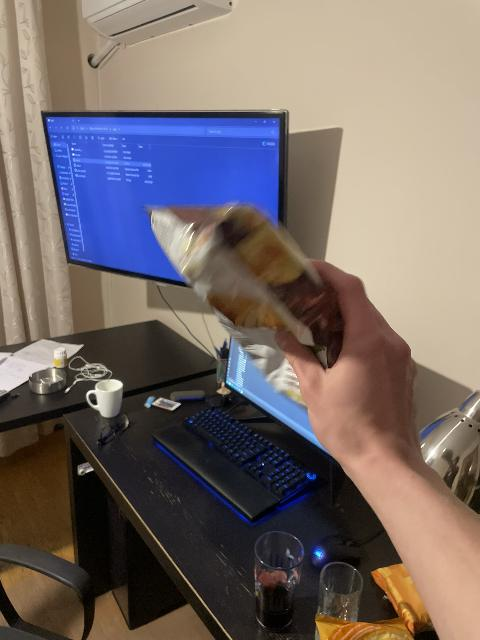Chio Cascaval 125g: (319, 616, 405, 640)
Chio Hula Hoops Cheese 70g: (372, 562, 436, 634)
Lays Beef Grilled Ribs 125g: (138, 203, 352, 413)
